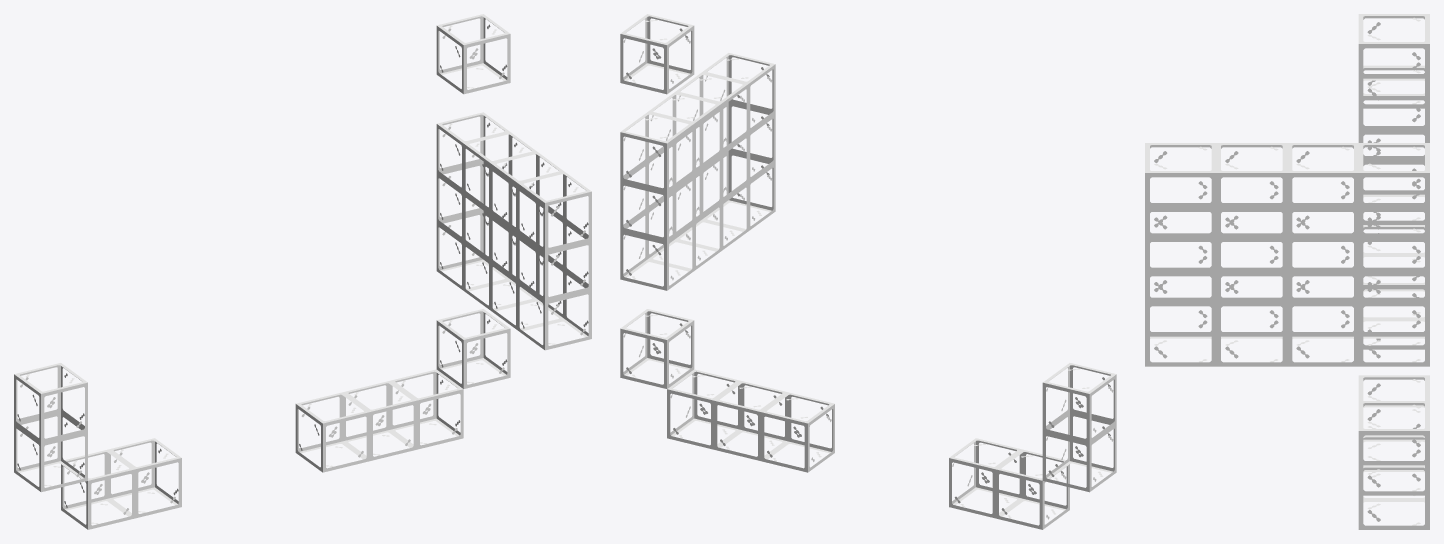
The model's file is house_glass.obj.
The picture shows the model from 3 angles, left to right: view 1: azimuth 30°, elevation 25°; view 2: azimuth 150°, elevation 25°; view 3: azimuth 270°, elevation 25°; orthographic projection. The views are drawn at different scales.
Parts seen in each view (by area): view 1: New_World_(1)__-654_64_-139_to_-645_255_-131; view 2: New_World_(1)__-654_64_-139_to_-645_255_-131; view 3: New_World_(1)__-654_64_-139_to_-645_255_-131.
Part boxes in pixels (bbox=[...]): New_World_(1)__-654_64_-139_to_-645_255_-131: bbox=[14, 14, 591, 529]; New_World_(1)__-654_64_-139_to_-645_255_-131: bbox=[620, 14, 1116, 529]; New_World_(1)__-654_64_-139_to_-645_255_-131: bbox=[1145, 14, 1429, 529].
Bounding box in the file's own units: 10 × 8 × 4.
